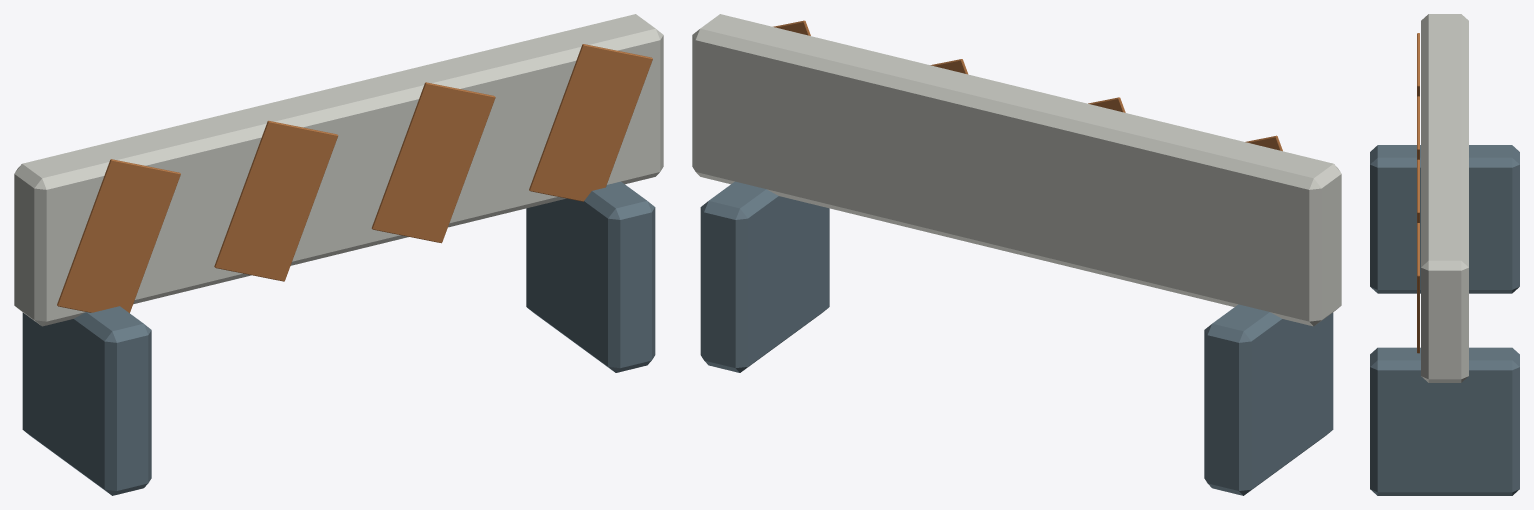
File: props-barrier.lod0.glb
3 views of the same model, side by side, from view 1: azimuth 30°, elevation 25°; view 2: azimuth 150°, elevation 25°; view 3: azimuth 270°, elevation 25° (orthographic). The views are drawn at different scales.
Visible parts, largest first — view 1: props-barrier__body; view 2: props-barrier__body; view 3: props-barrier__body.
Part boxes in pixels (x1,y1,x2,y2): props-barrier__body: (14, 14, 663, 495); props-barrier__body: (692, 14, 1341, 495); props-barrier__body: (1370, 14, 1519, 495).
Bounding box in the file's own units: 2 × 0.9486 × 0.5.
